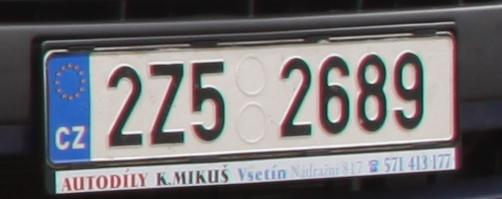2: (107, 66, 143, 146), (281, 59, 310, 135)
5: (192, 62, 224, 140)
6: (320, 54, 350, 133)
8: (358, 55, 388, 132)
9: (395, 52, 424, 129)
Z: (149, 63, 184, 143)
